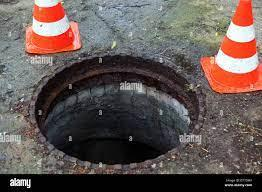open manhole-not overflowing-: (31, 53, 205, 171)
